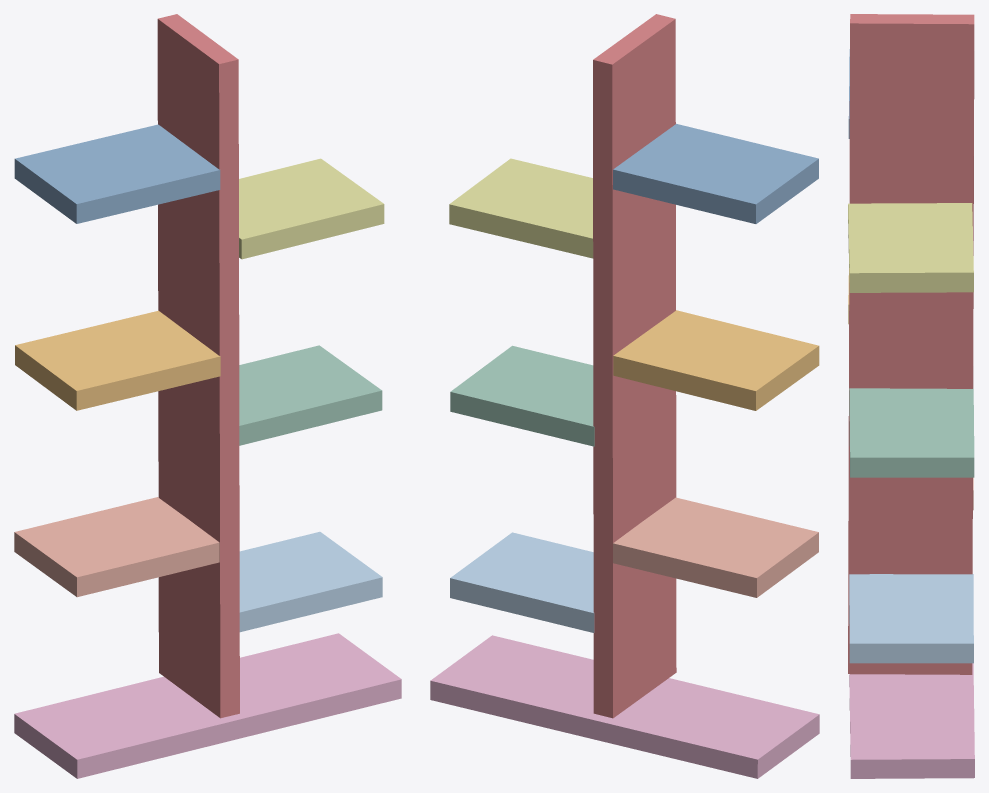
File: 46483_assembly.glb
3 views of the same model, side by side, from view 1: azimuth 30°, elevation 25°; view 2: azimuth 150°, elevation 25°; view 3: azimuth 270°, elevation 25° (orthographic).
Parts seen in each view (by area): view 1: part_00, part_03, part_02, part_01, part_07, part_04, part_06, part_05; view 2: part_00, part_03, part_01, part_02, part_07, part_05, part_06, part_04; view 3: part_00, part_03, part_04, part_06, part_05.
Part boxes in pixels (bbox=[...]): part_00: bbox=[157, 14, 239, 718]; part_03: bbox=[14, 633, 401, 778]; part_02: bbox=[15, 310, 220, 410]; part_01: bbox=[14, 497, 219, 597]; part_07: bbox=[14, 124, 220, 223]; part_04: bbox=[239, 158, 384, 259]; part_06: bbox=[239, 531, 382, 632]; part_05: bbox=[239, 345, 382, 445]; part_00: bbox=[593, 14, 676, 718]; part_03: bbox=[430, 635, 819, 778]; part_01: bbox=[613, 497, 818, 597]; part_02: bbox=[613, 310, 819, 410]; part_07: bbox=[613, 123, 818, 223]; part_05: bbox=[450, 345, 594, 446]; part_06: bbox=[450, 532, 594, 632]; part_04: bbox=[449, 158, 593, 258]; part_00: bbox=[848, 14, 974, 674]; part_03: bbox=[849, 663, 974, 778]; part_04: bbox=[848, 203, 973, 292]; part_06: bbox=[849, 574, 973, 663]; part_05: bbox=[849, 388, 974, 477].
Size of the model in its own units: 0.5227 by 1.04 by 0.1769.
